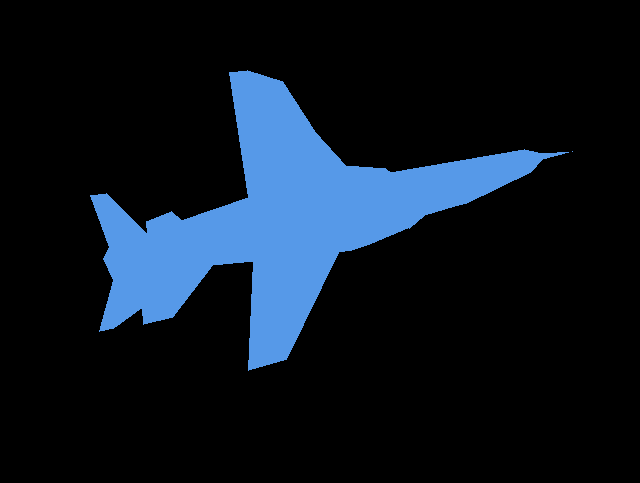Airplane: (90, 70, 572, 370)
